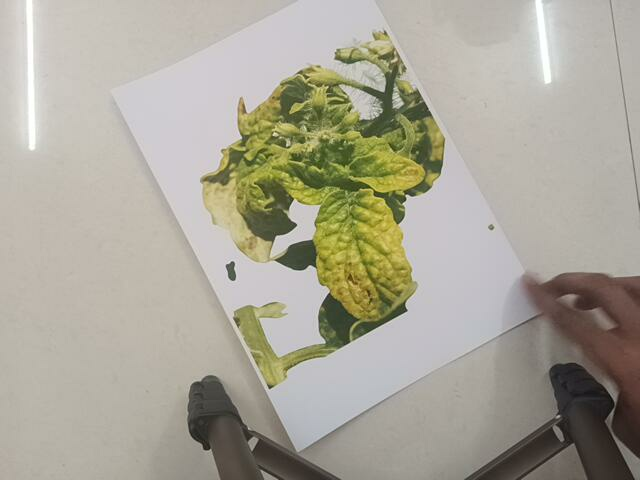Tomamto_Leaf_curl_virus: (204, 19, 458, 375)
